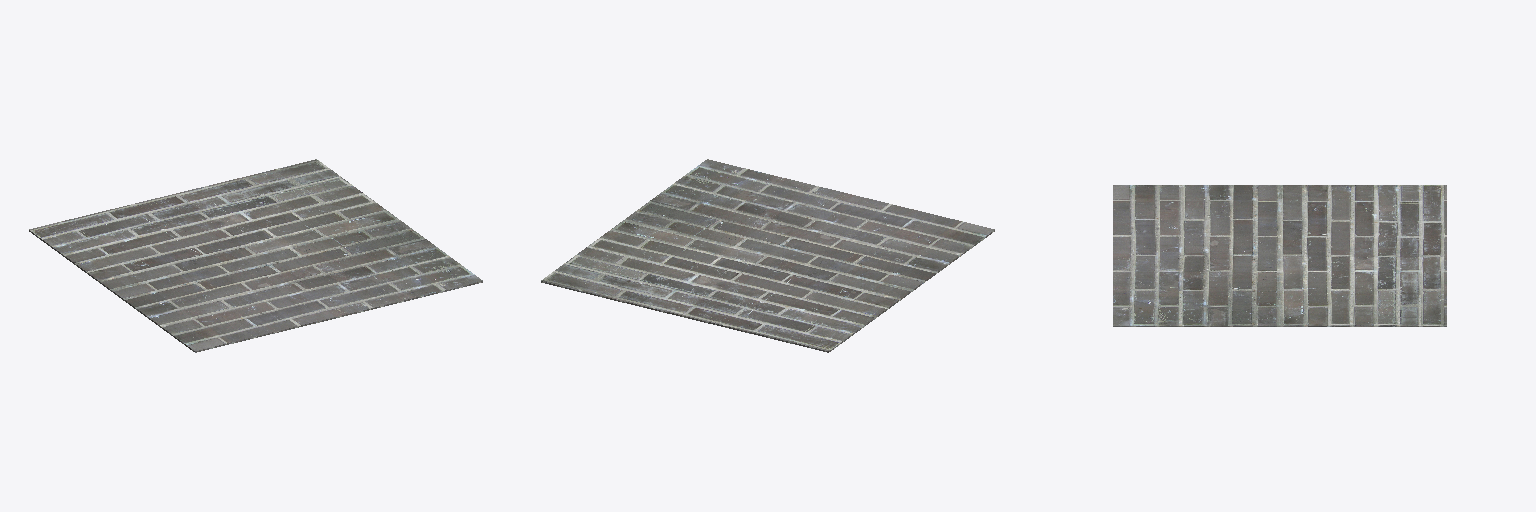
3 renders of one model, left to right at view 1: azimuth 30°, elevation 25°; view 2: azimuth 150°, elevation 25°; view 3: azimuth 270°, elevation 25°, orthographic.
Parts seen in each view (by area): view 1: Cube; view 2: Cube; view 3: Cube.
Part boxes in pixels (left/top/right/bottom): Cube: left=29, top=159, right=482, bottom=352; Cube: left=541, top=159, right=994, bottom=352; Cube: left=1113, top=185, right=1446, bottom=326.
Bounding box in the file's own units: 40 × 0.2 × 40.
Materials: 1 (1 with a texture image).